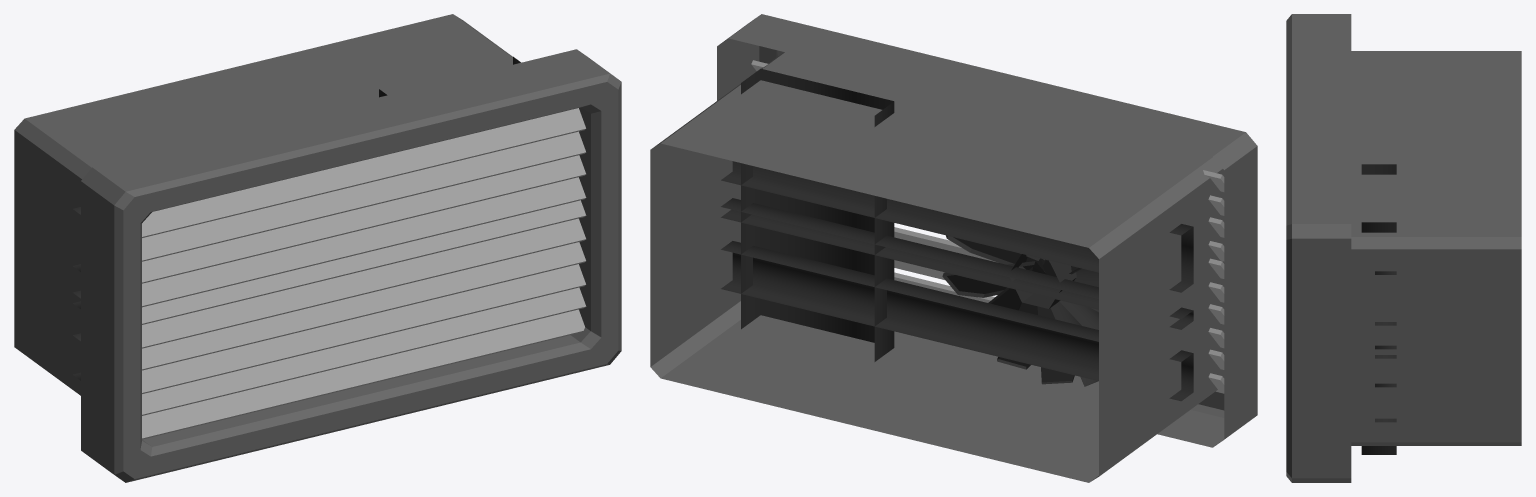
File: vent_B.FBX
The picture shows the model from 3 angles, left to right: view 1: azimuth 30°, elevation 25°; view 2: azimuth 150°, elevation 25°; view 3: azimuth 270°, elevation 25°; orthographic projection. The views are drawn at different scales.
Parts seen in each view (by area): view 1: vent_B; view 2: vent_B; view 3: vent_B.
Part boxes in pixels (left/top/right/bottom): vent_B: left=14, top=14, right=621, bottom=482; vent_B: left=650, top=14, right=1257, bottom=482; vent_B: left=1286, top=14, right=1521, bottom=482.
Size of the model in its own units: 47.07 by 25.82 by 21.24.
